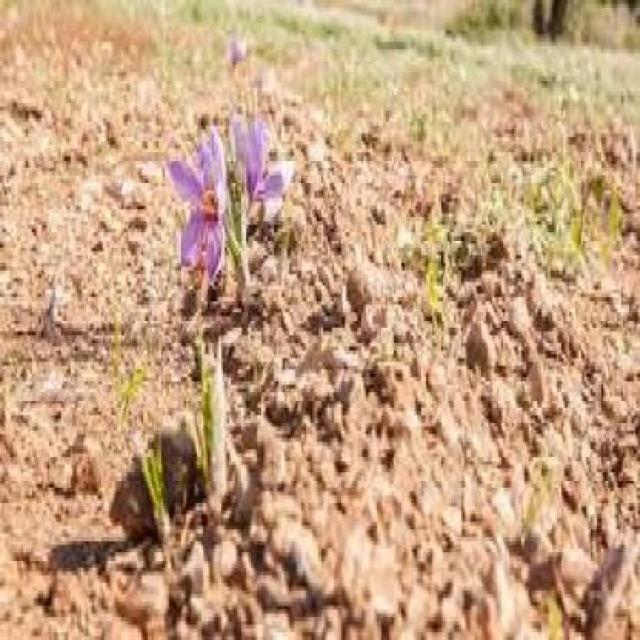Flower: (168, 130, 226, 272), (231, 116, 294, 201)
